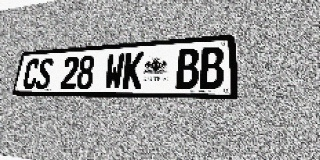2: (60, 56, 80, 89)
8: (75, 55, 96, 89)
B: (199, 46, 224, 89), (176, 48, 199, 89)
C: (22, 59, 41, 89)
K: (122, 52, 144, 89)
S: (35, 58, 54, 89)
W: (104, 53, 125, 89)
